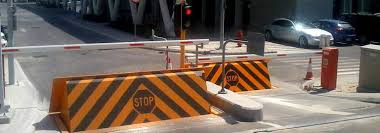obstacle: (49, 72, 213, 120), (194, 59, 272, 93), (303, 55, 315, 82)
